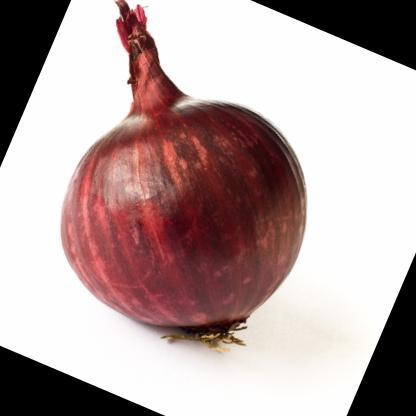onion: (0, 0, 388, 395)
